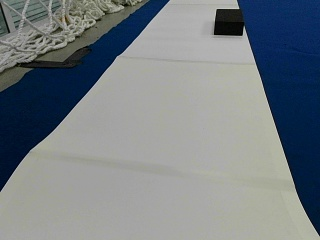block: (213, 9, 243, 35)
